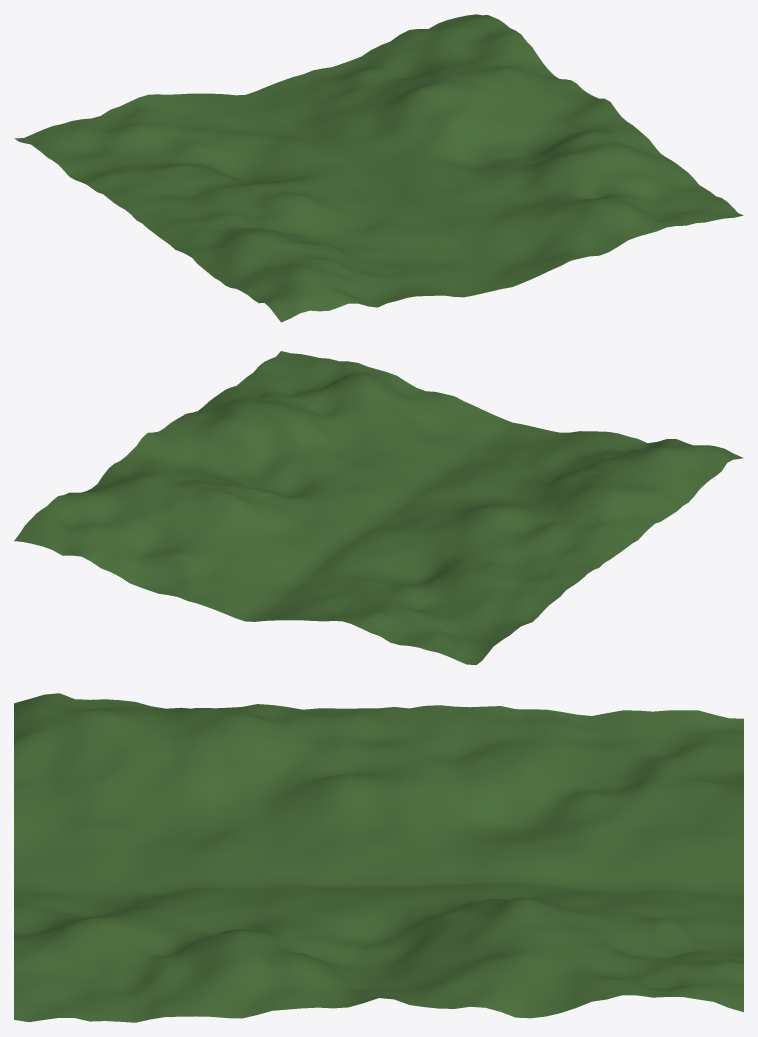
Rendered from procedural_terrain.fbx.
3 views of the same model, one above another, from view 1: azimuth 30°, elevation 25°; view 2: azimuth 150°, elevation 25°; view 3: azimuth 270°, elevation 25° (orthographic). The views are drawn at different scales.
Visible parts, largest first — view 1: ProceduralTerrain; view 2: ProceduralTerrain; view 3: ProceduralTerrain.
Part boxes in pixels (<box>): ProceduralTerrain: <box>14,14,743,322</box>; ProceduralTerrain: <box>14,351,743,664</box>; ProceduralTerrain: <box>14,693,743,1022</box>.
Bounding box in the file's own units: 64 × 5.63 × 64.
